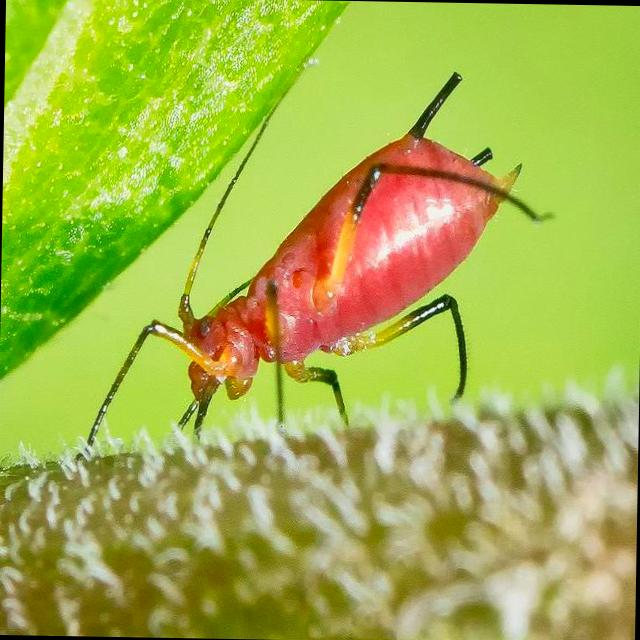aphid: (112, 70, 550, 488)
